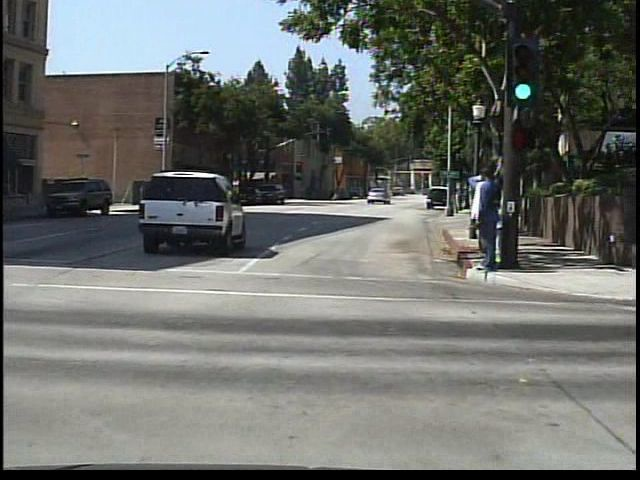person: (464, 169, 494, 273), (473, 166, 500, 275), (329, 185, 340, 202)
